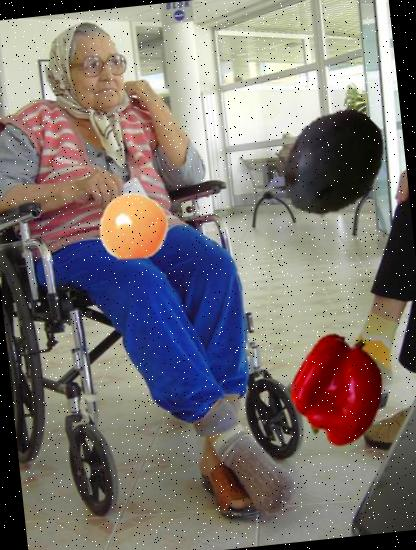Pepper: (283, 332, 396, 446)
Physalis: (95, 187, 173, 265)
Plum: (268, 100, 396, 227)
